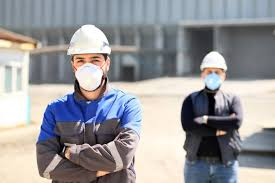Helmet: (62, 25, 113, 56), (199, 52, 232, 70)
Mask: (73, 62, 110, 92)
No-jacket: (44, 96, 134, 183), (187, 92, 241, 164)
